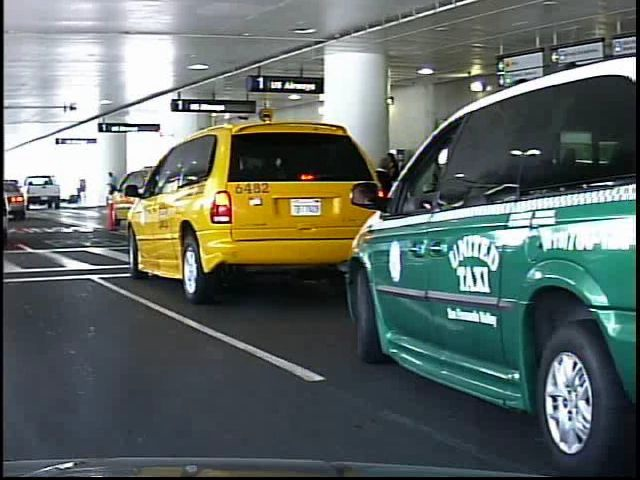person: (98, 170, 115, 209)
